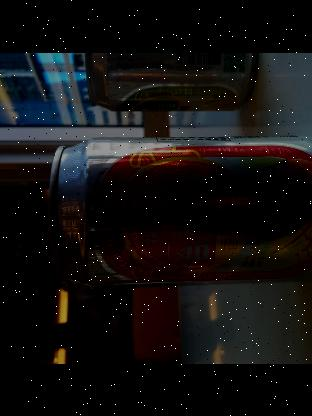Can: (44, 126, 312, 292)
